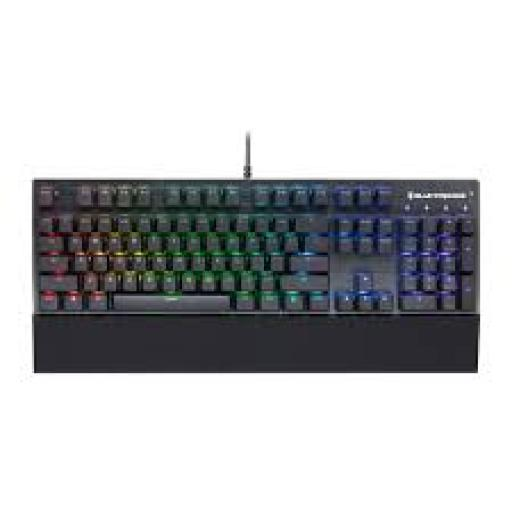KEYBOARD-2: (34, 180, 476, 369)
